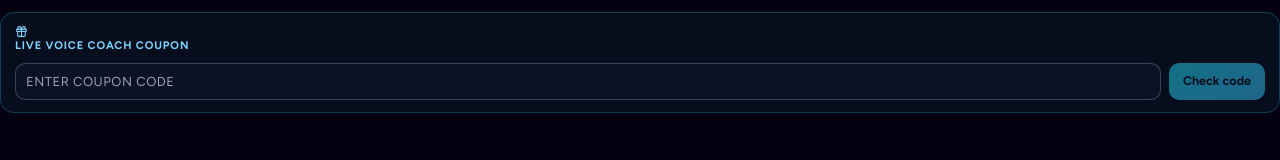
wrong_benefit_type and not_assigned each show their own specific message
The image size is (1280, 160).
Step 1. Type "bookcode" into the field with test id "live-coupon-input" → (588, 81), box [15, 62, 1161, 100]
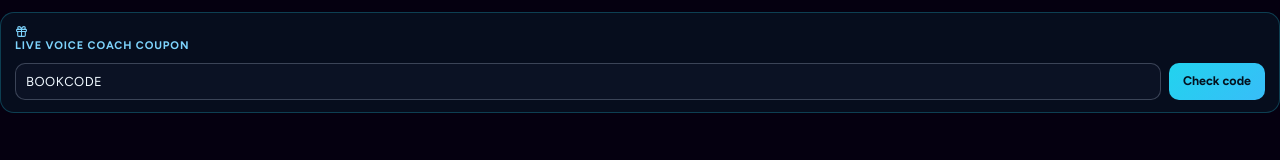
Step 2. Click the button with test id "live-coupon-check-btn" → (1217, 81), box [1169, 62, 1265, 100]
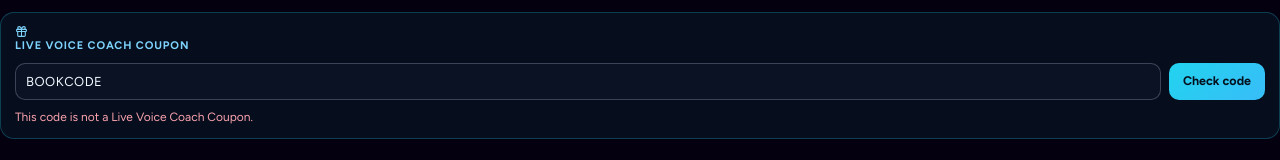
Expected: the text with test id "live-coupon-error" shows "not a Live Voice Coach Coupon", [15, 110, 253, 124]
